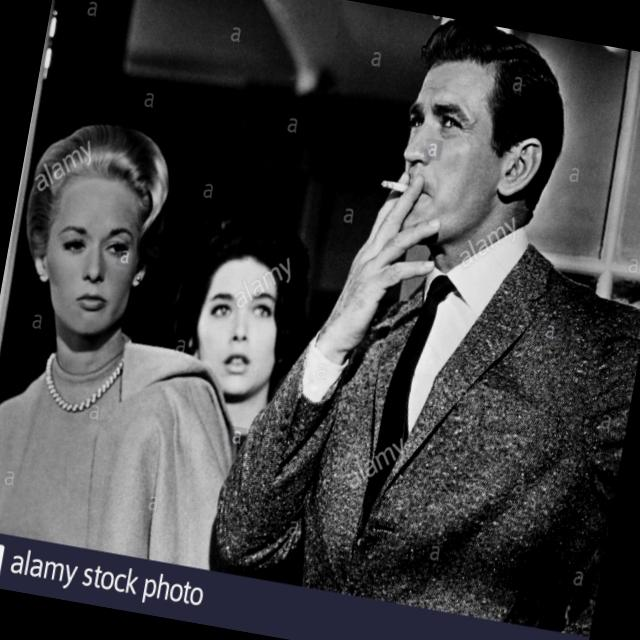cigarette: (377, 176, 412, 202)
